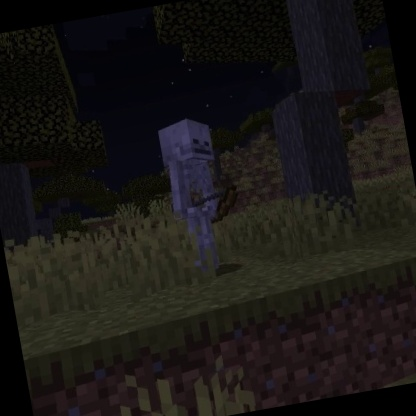skeleton: (150, 107, 253, 279)
